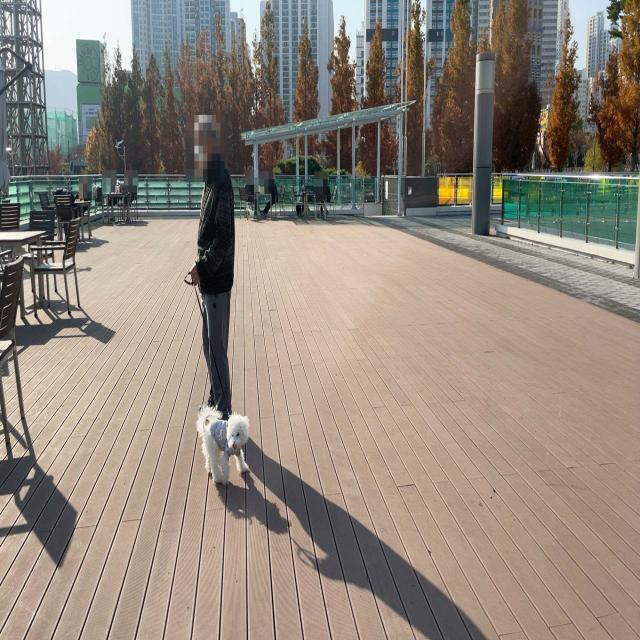Leashed_Dog: (195, 266, 251, 488)
